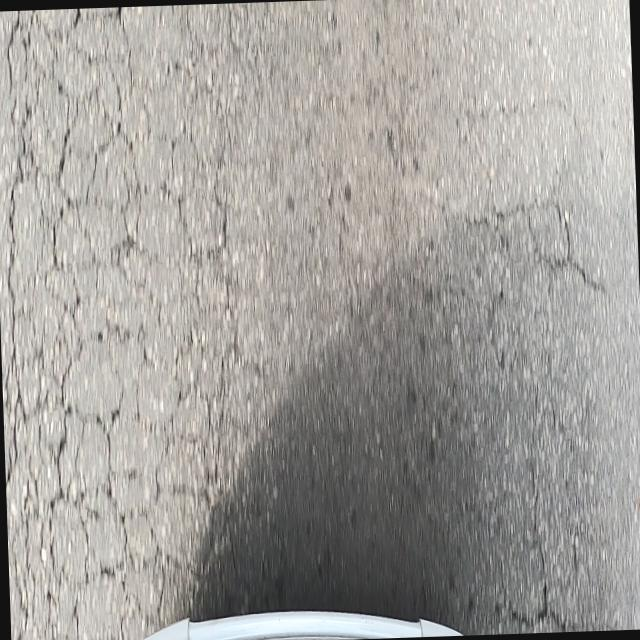Retak-Buaya: (0, 9, 252, 640)
